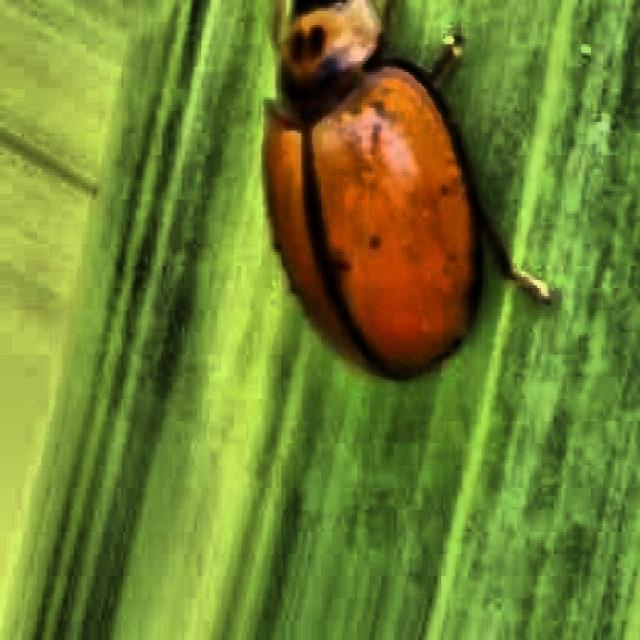Ladybug: (180, 2, 570, 446)
